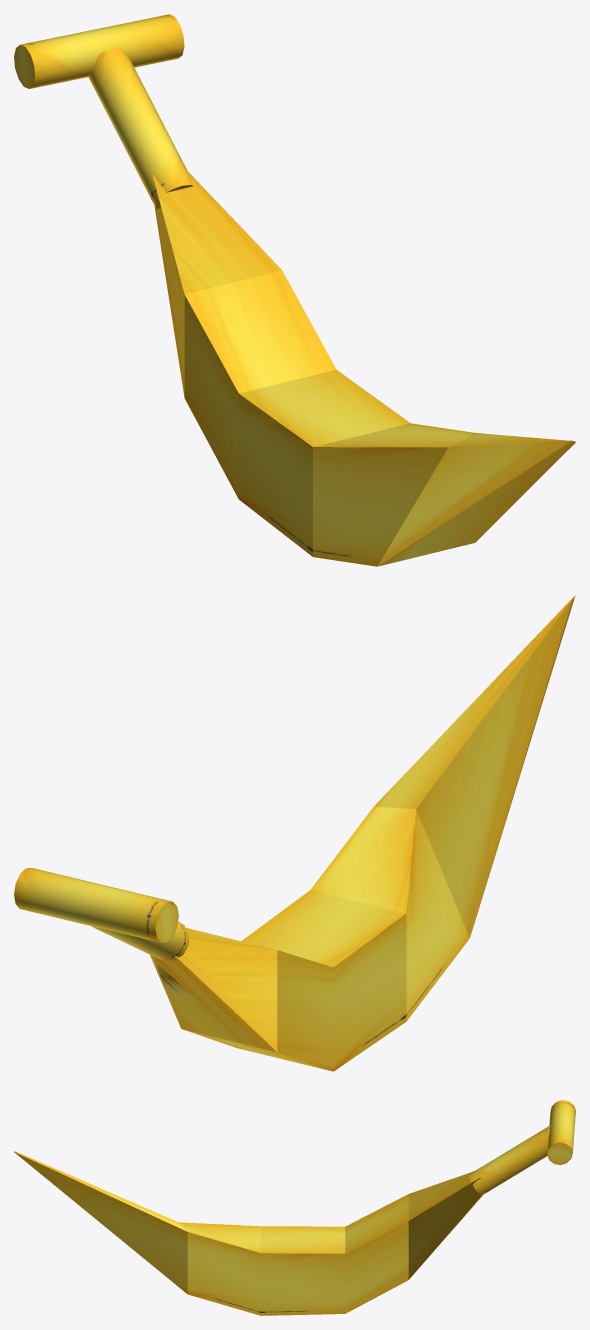
File: banana_7579a5b6.glb
3 views of the same model, one above another, from view 1: azimuth 30°, elevation 25°; view 2: azimuth 150°, elevation 25°; view 3: azimuth 270°, elevation 25° (orthographic). The views are drawn at different scales.
Visible parts, largest first — view 1: Object_2; view 2: Object_2; view 3: Object_2.
Boxes of the visible parts, <box> form: Object_2: <box>14,14,575,566</box>; Object_2: <box>14,595,575,1071</box>; Object_2: <box>14,1100,575,1315</box>.
Bounding box in the file's own units: 15.15 × 31.38 × 87.59.
Materials: 1 (1 with a texture image).
